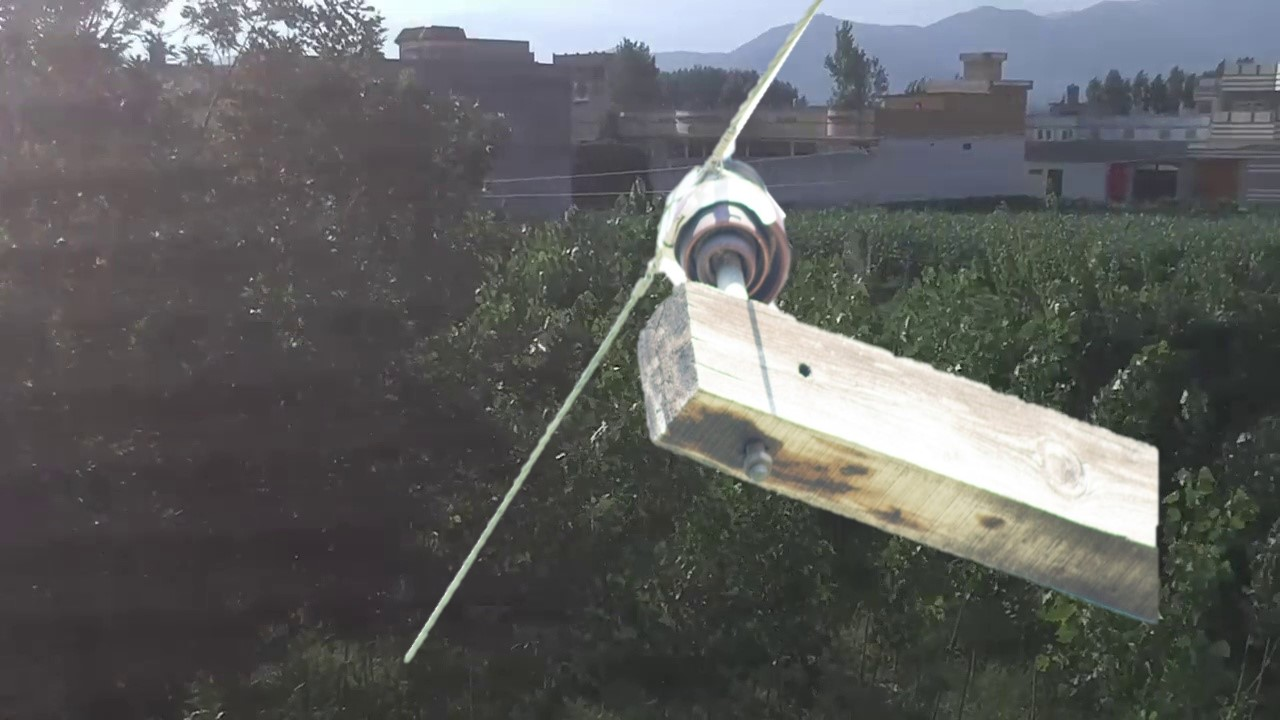defect_pin: (652, 150, 797, 309)
